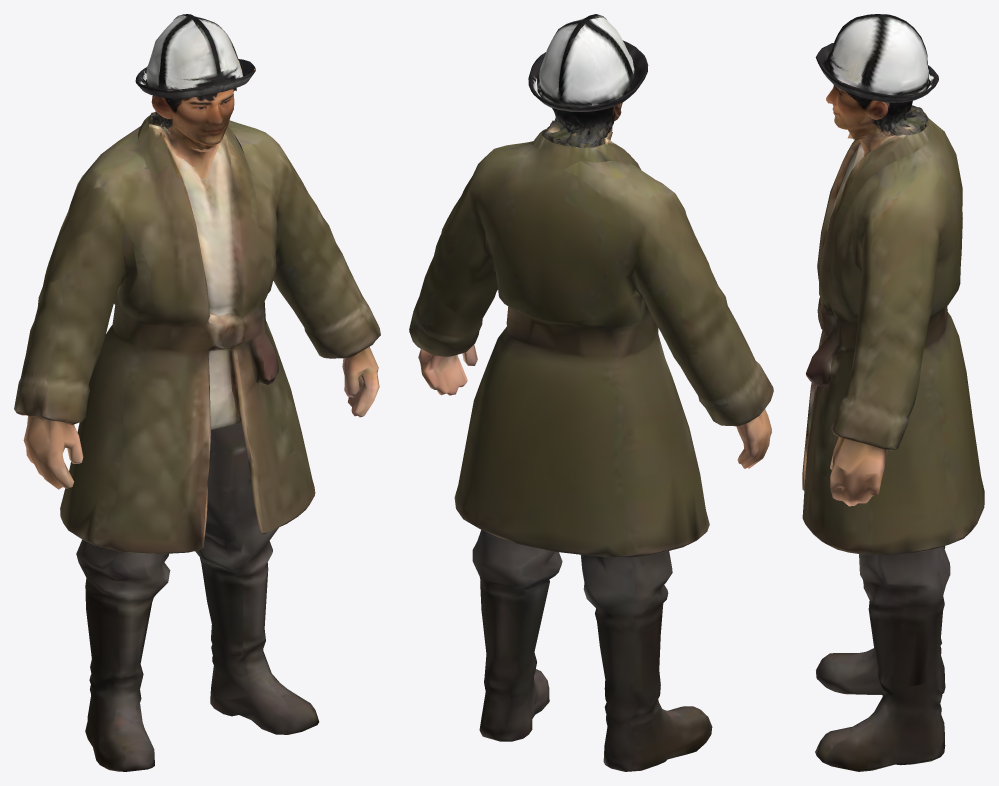
File: herder-erlan.gen.phone.glb
3 views of the same model, side by side, from view 1: azimuth 30°, elevation 25°; view 2: azimuth 150°, elevation 25°; view 3: azimuth 270°, elevation 25° (orthographic).
Parts seen in each view (by area): view 1: herder-erlan.raw; view 2: herder-erlan.raw; view 3: herder-erlan.raw.
Part boxes in pixels (x1=…): herder-erlan.raw: x1=14, y1=14, x2=380, y2=771; herder-erlan.raw: x1=409, y1=14, x2=773, y2=771; herder-erlan.raw: x1=802, y1=14, x2=984, y2=771.
Bounding box in the file's own units: 0.9567 × 1.85 × 0.4318.
1 material, 1 textured.
